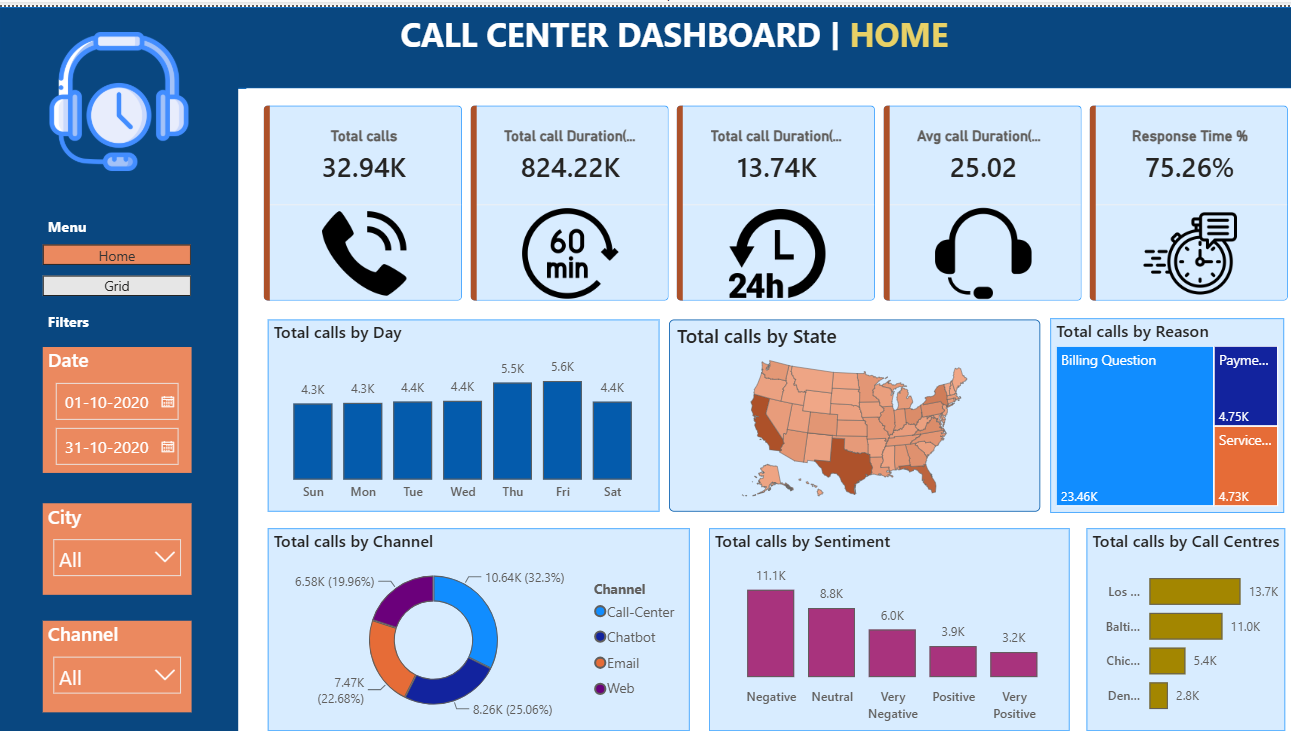

This screenshot's page, from the dashboard's own definition file:
{"tool":"powerbi","page":{"name":"Home","canvas":[1280,720],"ordinal":0},"visuals":[{"type":"shape","box":[9.7,0,1270.8,50],"z":0},{"type":"shape","box":[0,0,1281.2,80],"z":1000},{"type":"shape","box":[0,49,234,671],"z":2000},{"type":"cardVisual","fields":{"Data":["Call Center_Call Center (1).Total calls","Call Center_Call Center (1).Total call Duration(min)","Call Center_Call Center (1).Total call Duration(hrs)","Call Center_Call Center (1).Avg call Duration(Min)","Call Center_Call Center (1).Response Time %"]},"box":[242.1,79.5,1037,225],"z":3000},{"type":"textbox","box":[300,0,980,47.5],"z":4000},{"type":"columnChart","fields":{"Category":["Date table.Day"],"Y":["Call Center_Call Center (1).Total calls"]},"box":[263,306,383,188],"z":5000},{"type":"shapeMap","fields":{"Category":["Call Center_Call Center (1).State"],"Value":["Call Center_Call Center (1).Total calls"]},"box":[656,306,363,188],"z":6000},{"type":"treemap","fields":{"Group":["Call Center_Call Center (1).Reason"],"Values":["Call Center_Call Center (1).Total calls"]},"box":[1029,304,229,190],"z":7000},{"type":"donutChart","fields":{"Category":["Call Center_Call Center (1).Channel"],"Y":["Call Center_Call Center (1).Total calls"]},"box":[263,510,413,198],"z":8000},{"type":"columnChart","fields":{"Category":["Call Center_Call Center (1).Sentiment"],"Y":["Call Center_Call Center (1).Total calls"]},"box":[695,510,353,198],"z":9000},{"type":"barChart","fields":{"Category":["Call Center_Call Center (1).Call-Centres City"],"Y":["Call Center_Call Center (1).Total calls"]},"box":[1064,510,194,198],"z":10000},{"type":"slicer","title":"Date","fields":{"Values":["Date table.Date"]},"box":[42.8,332.6,145.5,123.5],"z":11000},{"type":"slicer","title":"City","fields":{"Values":["Call Center_Call Center (1).City"]},"box":[42.8,485.5,145.5,89.3],"z":12000},{"type":"slicer","title":"Channel","fields":{"Values":["Call Center_Call Center (1).Channel"]},"box":[42.8,600.4,145.5,89.3],"z":13000},{"type":"image","box":[29,25,176,136],"z":14000},{"type":"pageNavigator","box":[42.8,232.3,145.5,50.1],"z":15000},{"type":"textbox","box":[43,200,73,32],"z":16000},{"type":"textbox","box":[43,294,127,39],"z":17000}]}

Visuals, with their boxes in screenshot pixels (x1, y1, x2, y2), scaled from the page's 1280x720 canvas onto the 1291x731 screenshot:
shape: <bbox>10, 0, 1290, 51</bbox>
shape: <bbox>0, 0, 1290, 81</bbox>
shape: <bbox>0, 50, 236, 730</bbox>
cardVisual - Call Center_Call Center (1).Total calls x Call Center_Call Center (1).Total call Duration(min): <bbox>244, 81, 1290, 309</bbox>
textbox: <bbox>303, 0, 1290, 48</bbox>
columnChart - Date table.Day x Call Center_Call Center (1).Total calls: <bbox>265, 311, 652, 502</bbox>
shapeMap - Call Center_Call Center (1).State x Call Center_Call Center (1).Total calls: <bbox>662, 311, 1028, 502</bbox>
treemap - Call Center_Call Center (1).Reason x Call Center_Call Center (1).Total calls: <bbox>1038, 309, 1269, 502</bbox>
donutChart - Call Center_Call Center (1).Channel x Call Center_Call Center (1).Total calls: <bbox>265, 518, 682, 719</bbox>
columnChart - Call Center_Call Center (1).Sentiment x Call Center_Call Center (1).Total calls: <bbox>701, 518, 1057, 719</bbox>
barChart - Call Center_Call Center (1).Call-Centres City x Call Center_Call Center (1).Total calls: <bbox>1073, 518, 1269, 719</bbox>
"Date" slicer: <bbox>43, 338, 190, 463</bbox>
"City" slicer: <bbox>43, 493, 190, 584</bbox>
"Channel" slicer: <bbox>43, 610, 190, 700</bbox>
image: <bbox>29, 25, 207, 163</bbox>
pageNavigator: <bbox>43, 236, 190, 287</bbox>
textbox: <bbox>43, 203, 117, 236</bbox>
textbox: <bbox>43, 298, 171, 338</bbox>
